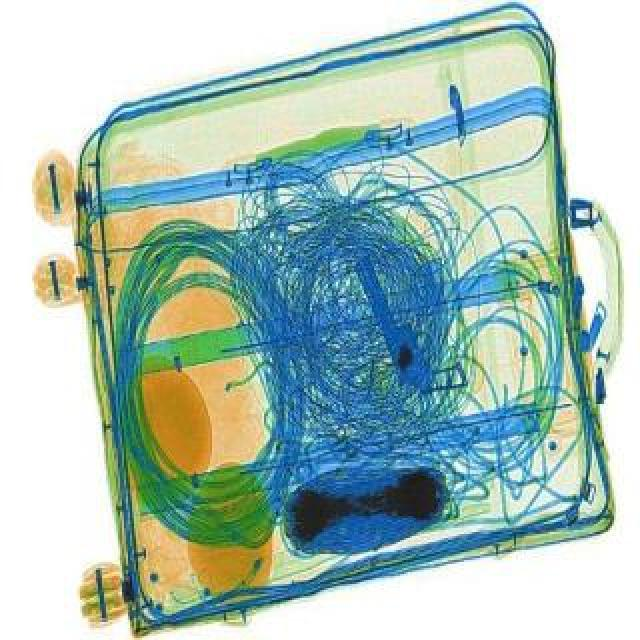gun: (352, 240, 472, 404)
